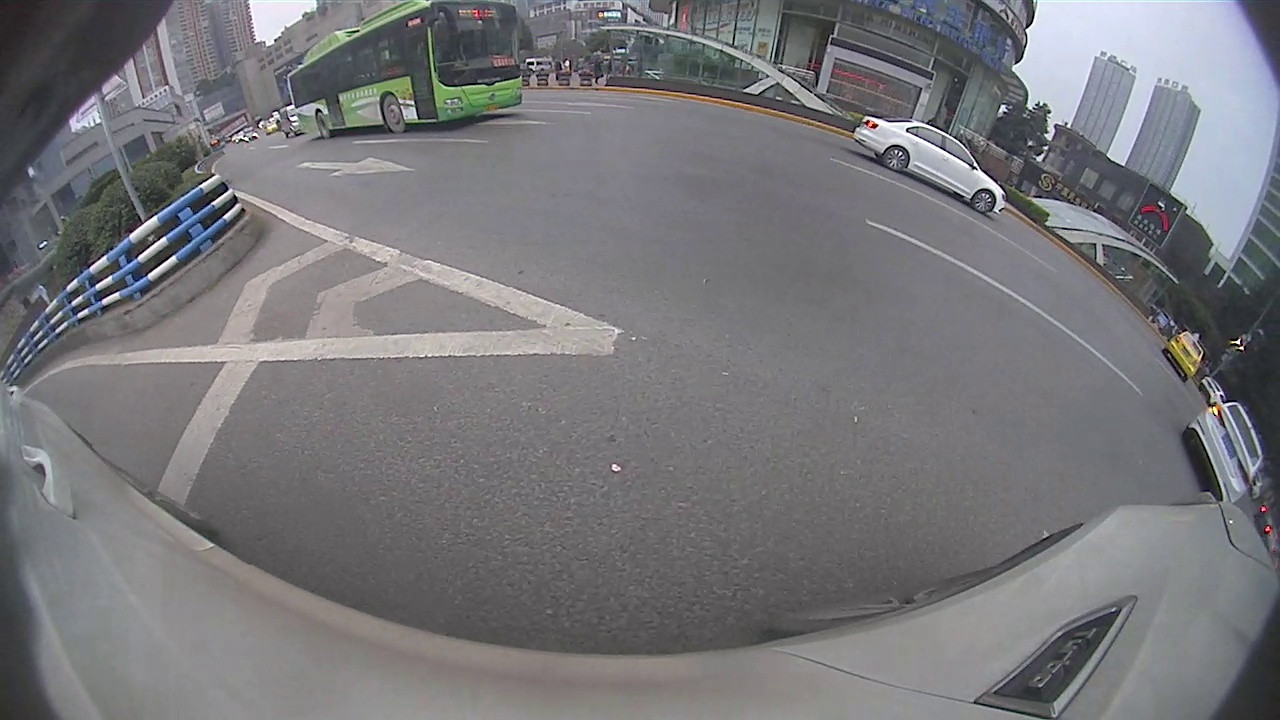bus: (283, 1, 525, 139)
car: (851, 112, 1010, 221), (1177, 392, 1266, 508), (1159, 331, 1206, 383)
front: (382, 97, 408, 138), (970, 187, 999, 217)
rear: (882, 147, 909, 173), (312, 110, 329, 137)
